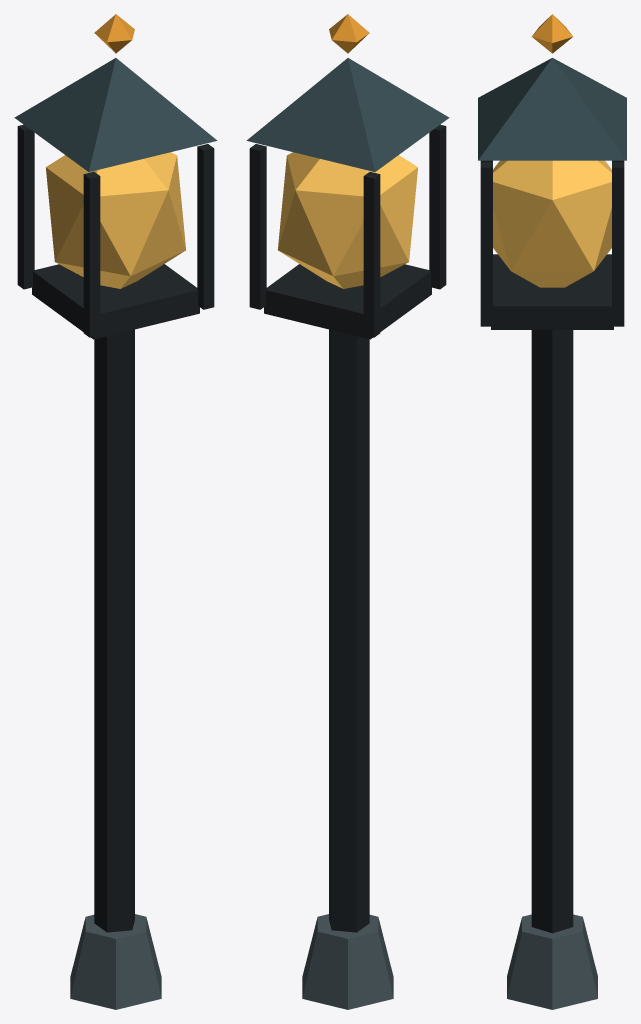
Rendered from prop_lamp.glb.
3 views of the same model, side by side, from view 1: azimuth 30°, elevation 25°; view 2: azimuth 150°, elevation 25°; view 3: azimuth 270°, elevation 25° (orthographic).
Visible parts, largest first — view 1: prop_lamp; view 2: prop_lamp; view 3: prop_lamp.
Boxes of the visible parts, box(x1,y1,x2,y2) form: prop_lamp: box(14, 14, 217, 1009); prop_lamp: box(246, 14, 449, 1009); prop_lamp: box(478, 14, 626, 1009).
Bounding box in the file's own units: 0.1697 × 1.23 × 0.1697.
